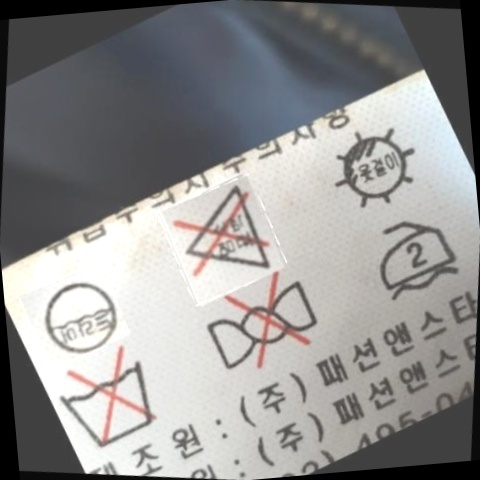DN_wash: (58, 338, 165, 457)
DN_wring: (196, 261, 332, 391)
dry_clean: (29, 259, 135, 366)
iron_medium: (366, 210, 469, 307)
line_dry_in_shade: (326, 116, 426, 220)
non_chlorine_bleach: (174, 177, 278, 291)
